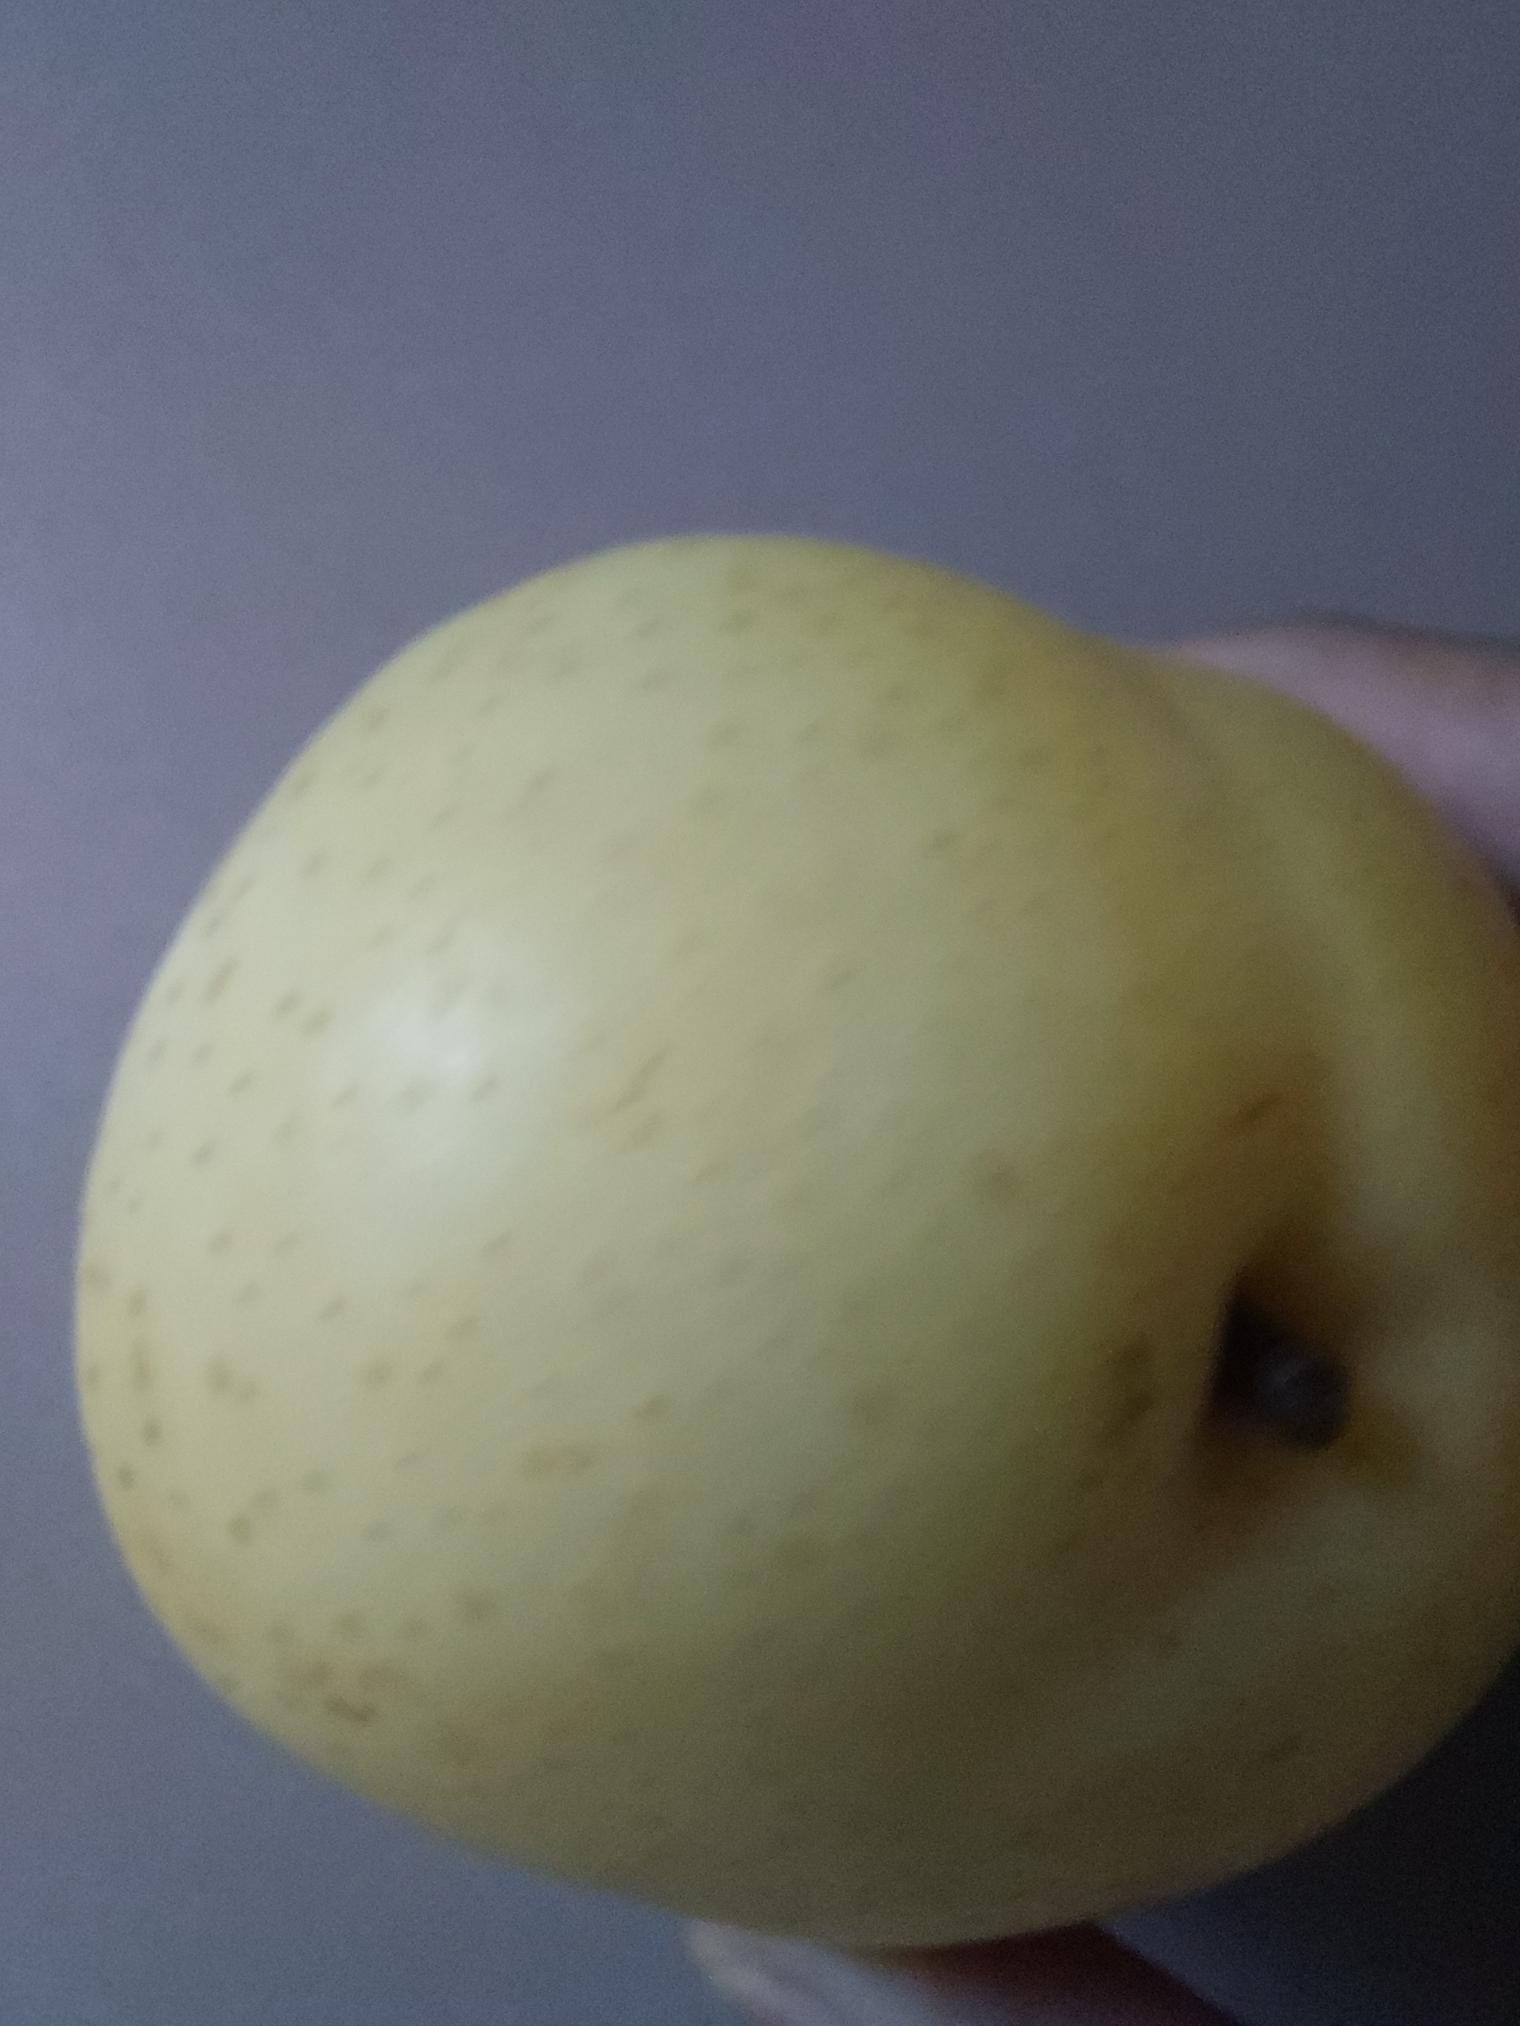Good Pear: (55, 538, 1520, 1964)
